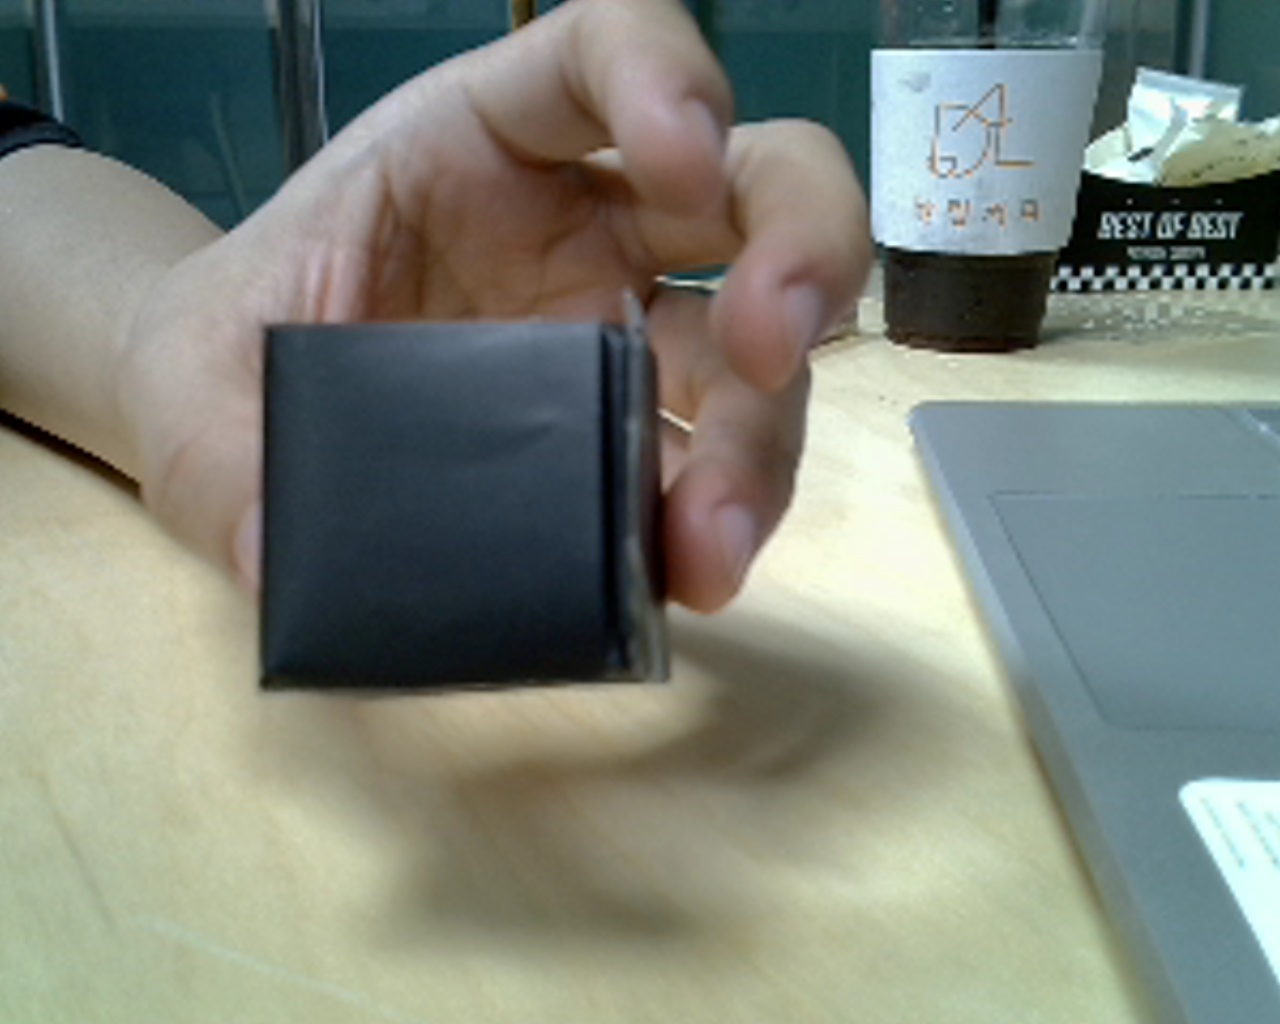blackbox: (195, 259, 736, 748)
